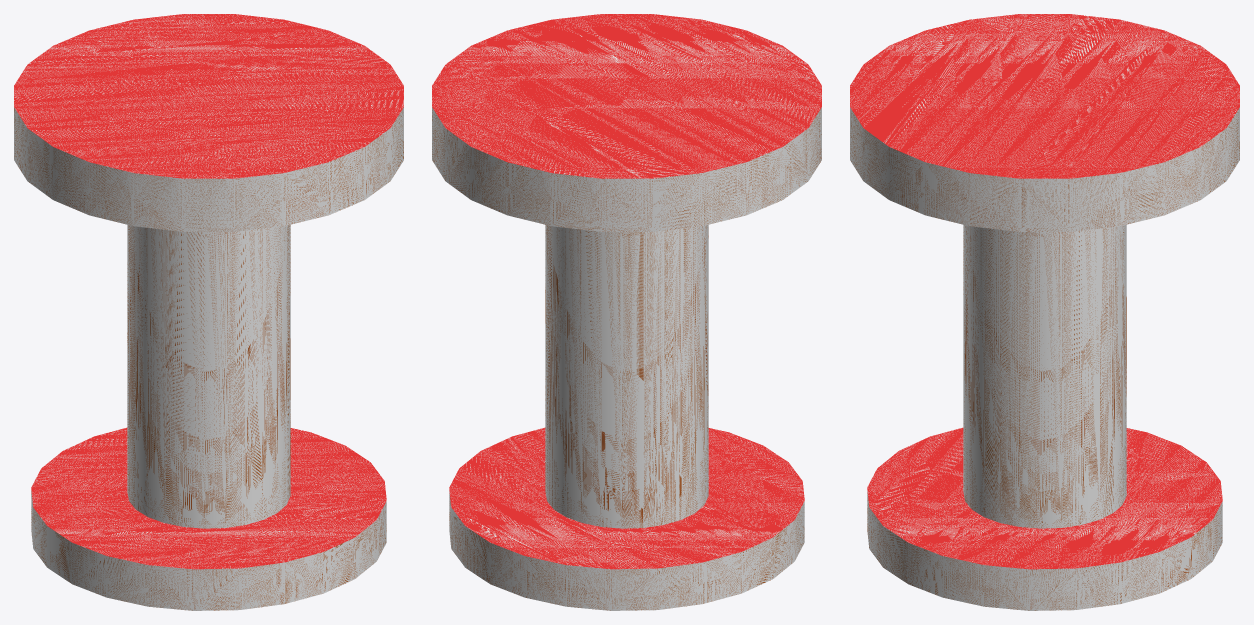
The picture shows the model from 3 angles, left to right: view 1: azimuth 30°, elevation 25°; view 2: azimuth 150°, elevation 25°; view 3: azimuth 270°, elevation 25°; orthographic projection.
Parts seen in each view (by area): view 1: mesh1_mesh1-geometry; view 2: mesh1_mesh1-geometry; view 3: mesh1_mesh1-geometry.
Boxes of the visible parts, <box> form: mesh1_mesh1-geometry: <box>14,14,403,610</box>; mesh1_mesh1-geometry: <box>432,14,821,610</box>; mesh1_mesh1-geometry: <box>850,14,1239,610</box>.
Bounding box in the file's own units: 0.5296 × 0.6591 × 0.5296.
3 materials, 1 textured.
